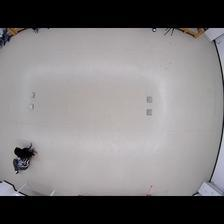fall: (11, 144, 36, 175)
